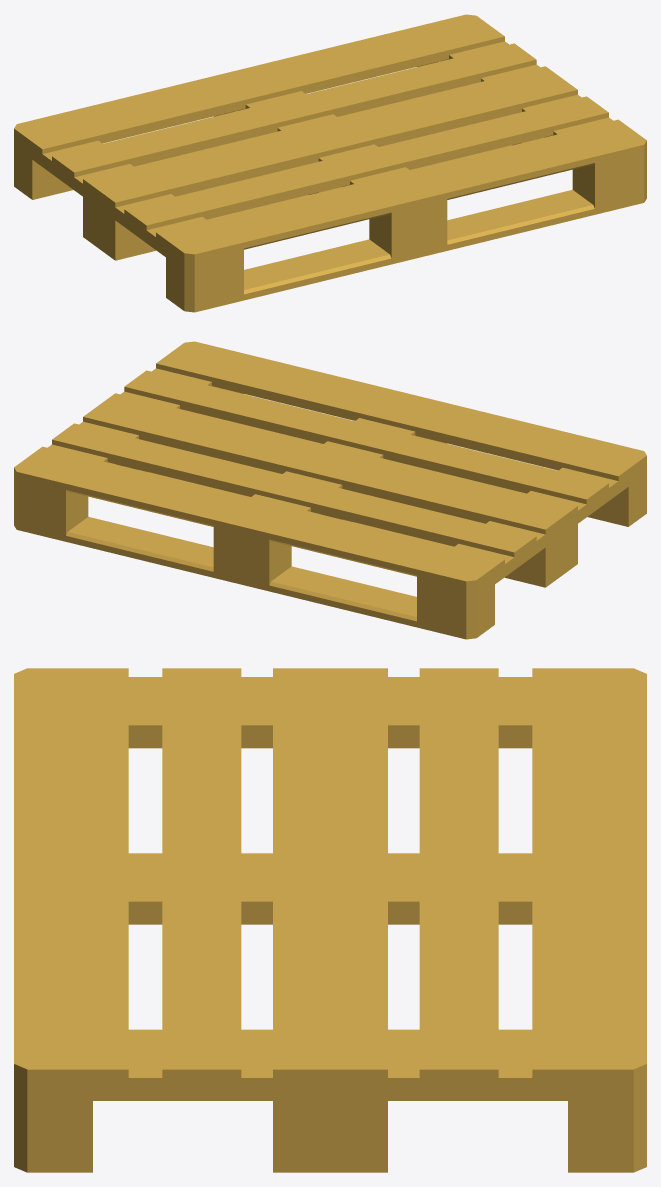
Rendered from eur-pallet.dae.
3 renders of one model, top to bottom at view 1: azimuth 30°, elevation 25°; view 2: azimuth 150°, elevation 25°; view 3: azimuth 270°, elevation 25°, orthographic. The views are drawn at different scales.
Visible parts, largest first — view 1: node0; view 2: node0; view 3: node0.
Part boxes in pixels (<box>): node0: <box>14,14,646,312</box>; node0: <box>14,341,646,639</box>; node0: <box>14,668,646,1172</box>.
Bounding box in the file's own units: 1.2 × 0.8 × 0.144.
